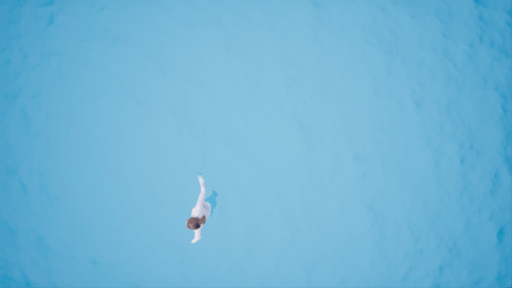person: (186, 166, 225, 248)
